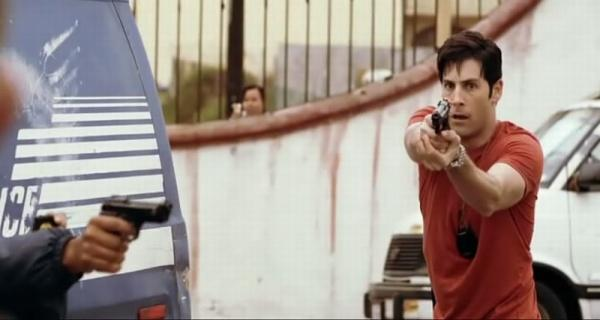Gun: (100, 195, 171, 238), (432, 98, 452, 135)
